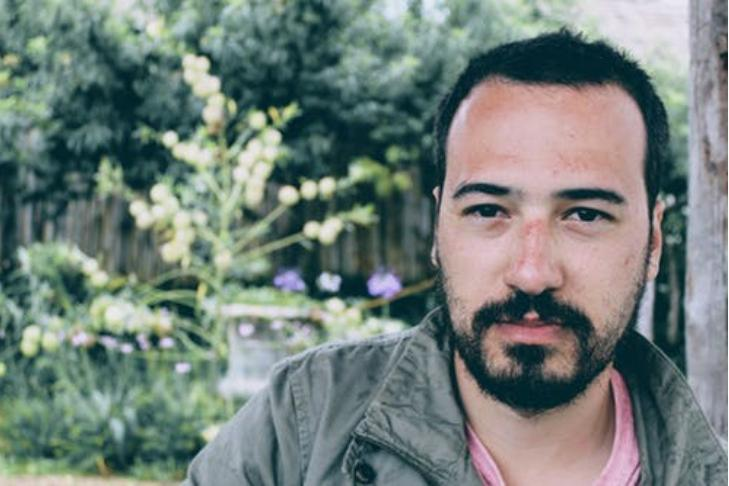face: (440, 84, 646, 398)
